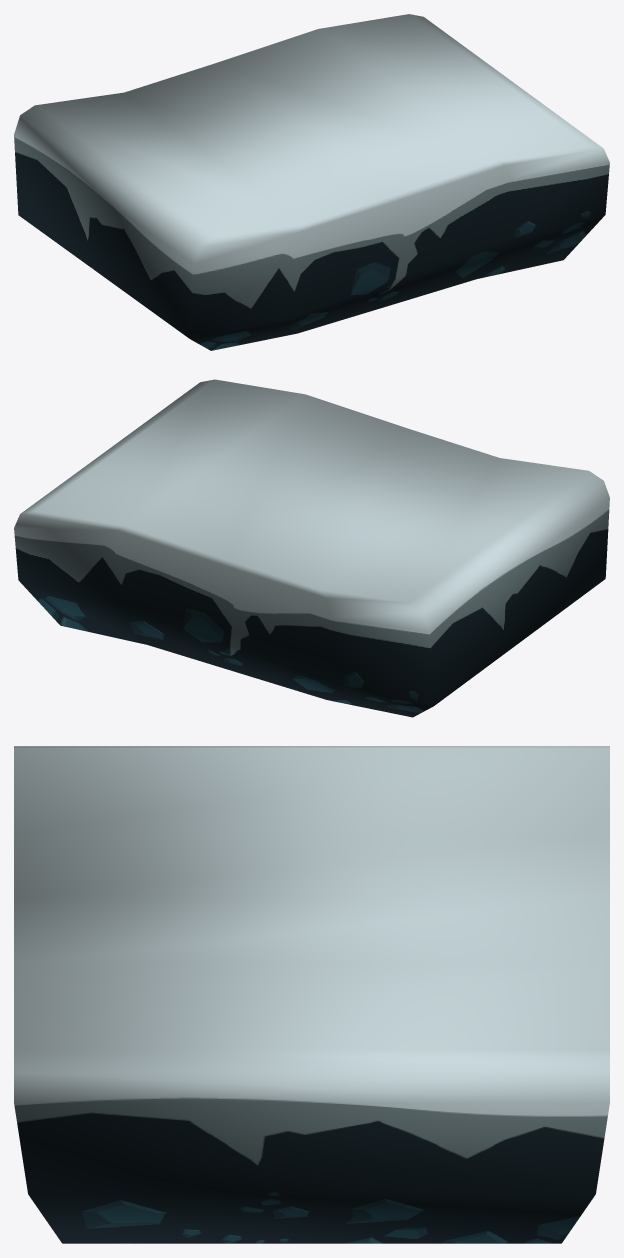
Rendered from Plataforma flutuante.fbx.
3 renders of one model, top to bottom at view 1: azimuth 30°, elevation 25°; view 2: azimuth 150°, elevation 25°; view 3: azimuth 270°, elevation 25°, orthographic. The views are drawn at different scales.
Visible parts, largest first — view 1: plataforma_menor; view 2: plataforma_menor; view 3: plataforma_menor.
Boxes of the visible parts, x1,y1,x2,y2 form: plataforma_menor: (14, 14, 609, 350); plataforma_menor: (14, 379, 609, 717); plataforma_menor: (14, 746, 609, 1243).
Bounding box in the file's own units: 1200 × 383 × 900.
